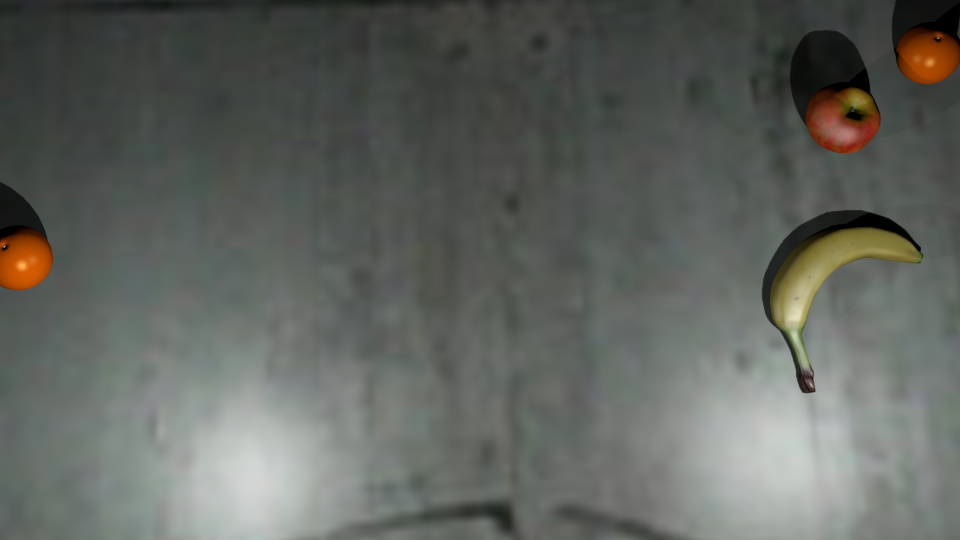apple: (807, 90, 881, 154)
banana: (771, 229, 923, 394)
orange: (898, 34, 960, 84), (1, 235, 53, 291)
